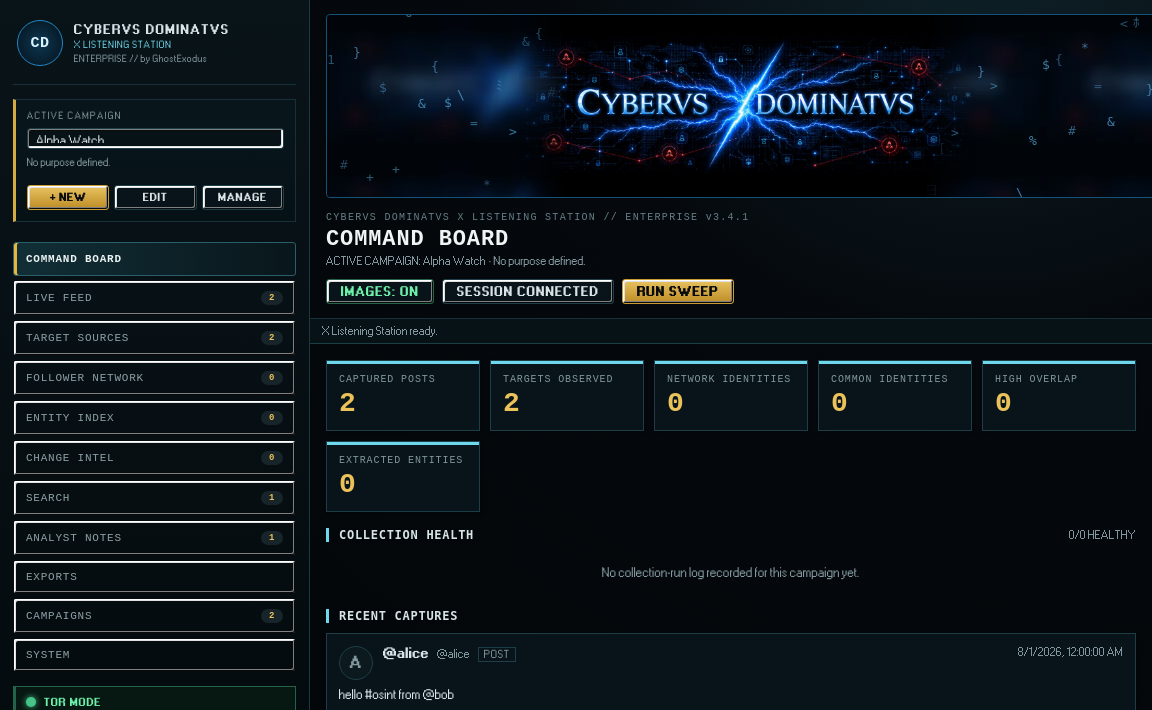
Test case: X Listening Station tabs (Task 15) › exports tab drives the real exportNetworkToFile channel
Click the button with class "xls-tab" showing "EXPORTS" at point(52, 577), box [13, 560, 296, 594]
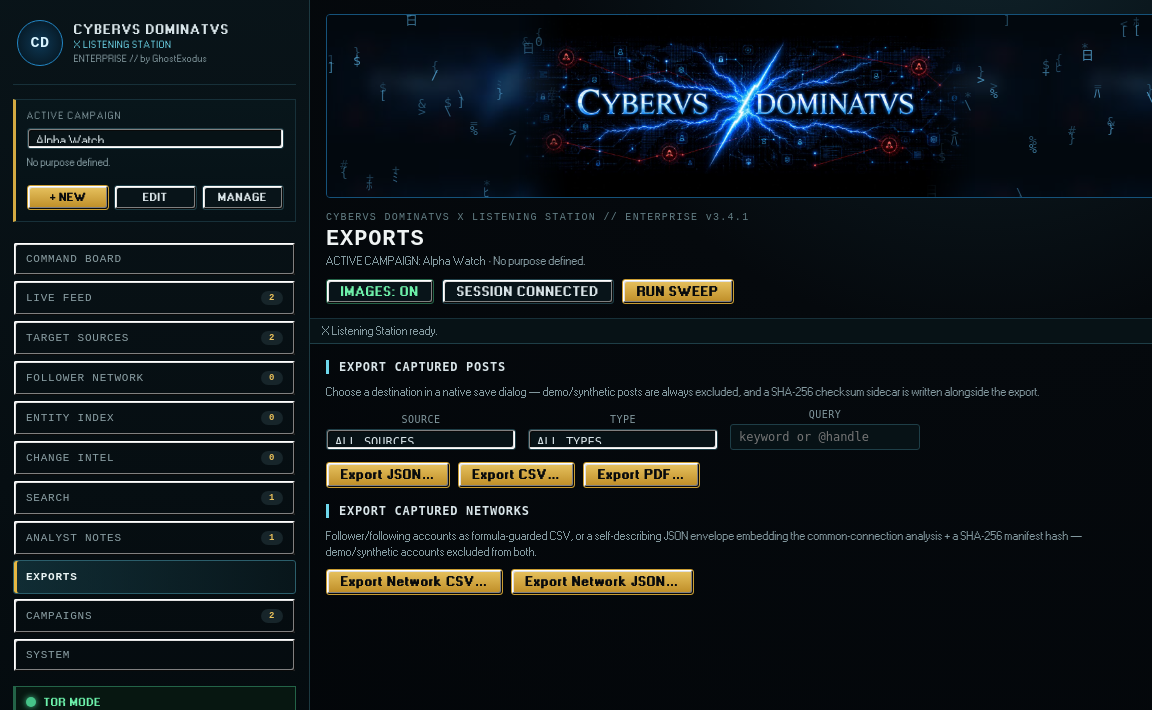
Click the button "Export Network CSV…" at point(414, 582), box [326, 569, 503, 595]
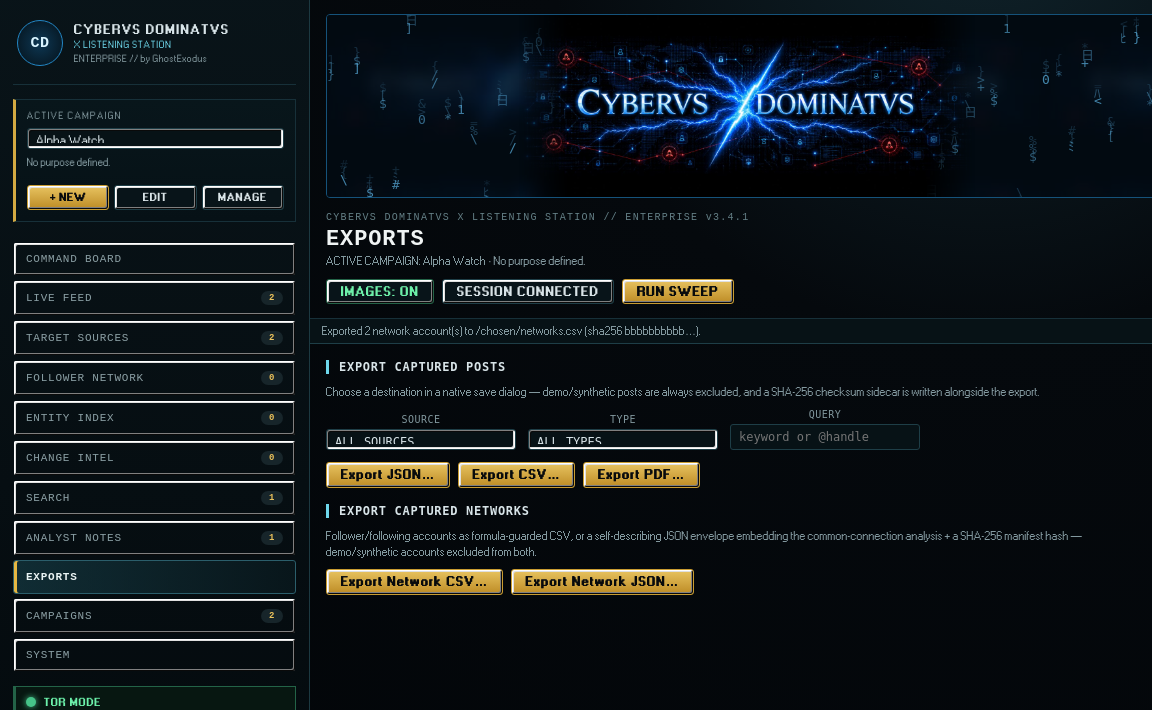
Result: the text "Exported 2 network account(s) to /chosen/networks.csv" is shown at [322, 325, 701, 337]
